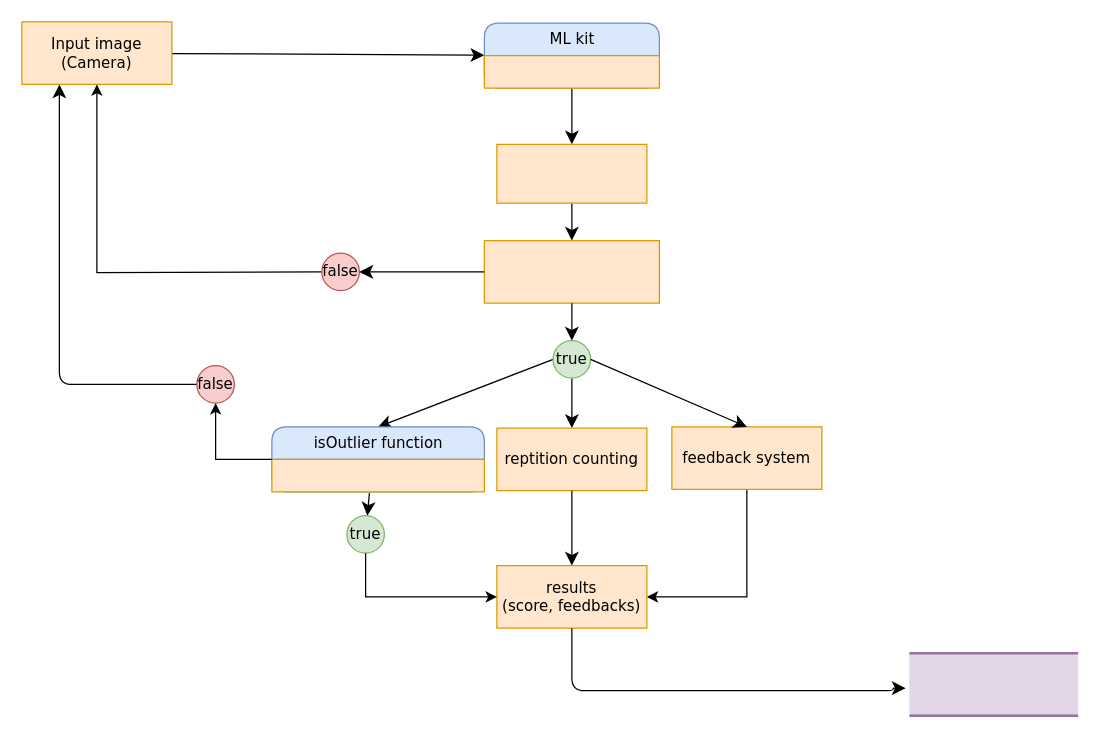
Image size: 1101x739. Some labels were removed from this diagram. The centre of each missing label's shape, as x and y in pixels:
"Calculate Angle" goes at [571,173].
"Database" goes at [993,683].
"error detection algorithm" goes at [377,475].
"Pose estimation model" goes at [571,71].
"시작 자세에 해당하는지" goes at [571,271].
